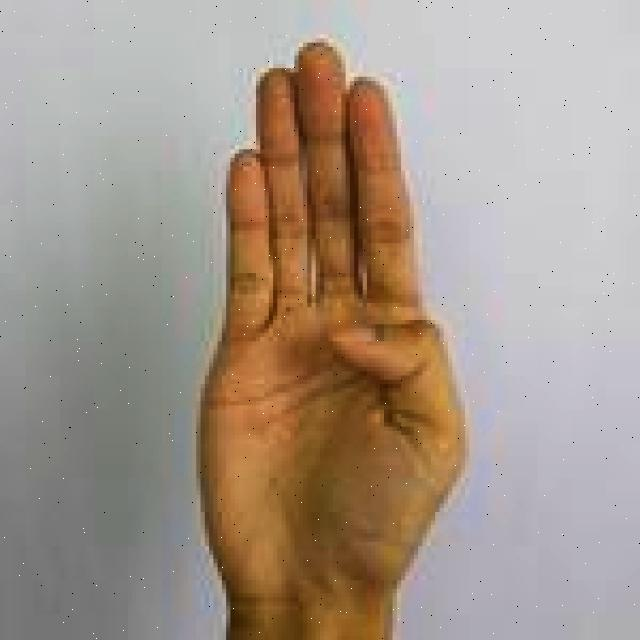B: (195, 34, 473, 640)
